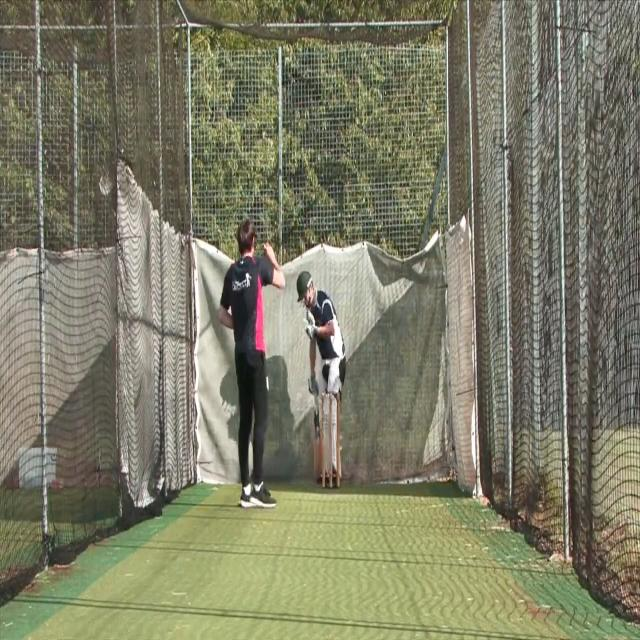batsman: (295, 268, 347, 491)
